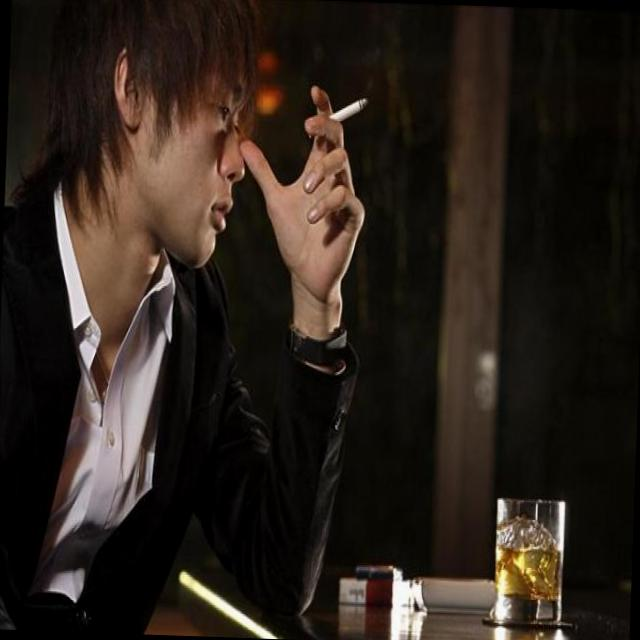cigarette: (302, 92, 368, 134)
